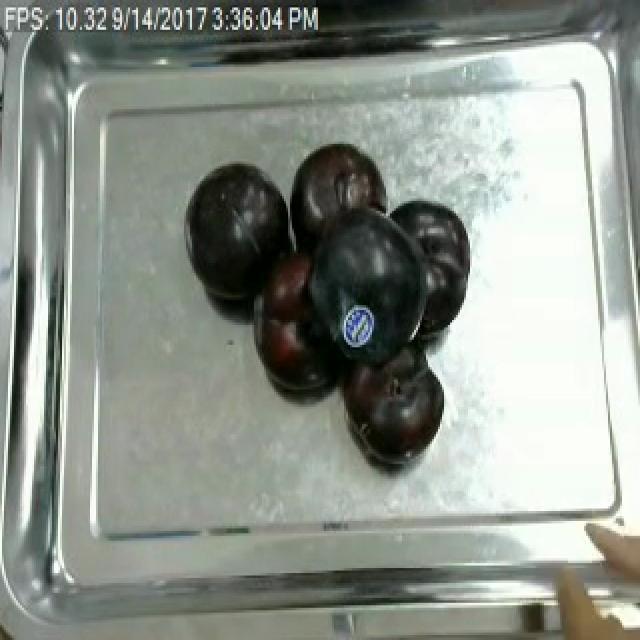Fruit: (182, 158, 292, 308), (378, 191, 478, 347), (334, 342, 450, 467), (288, 137, 394, 238)
